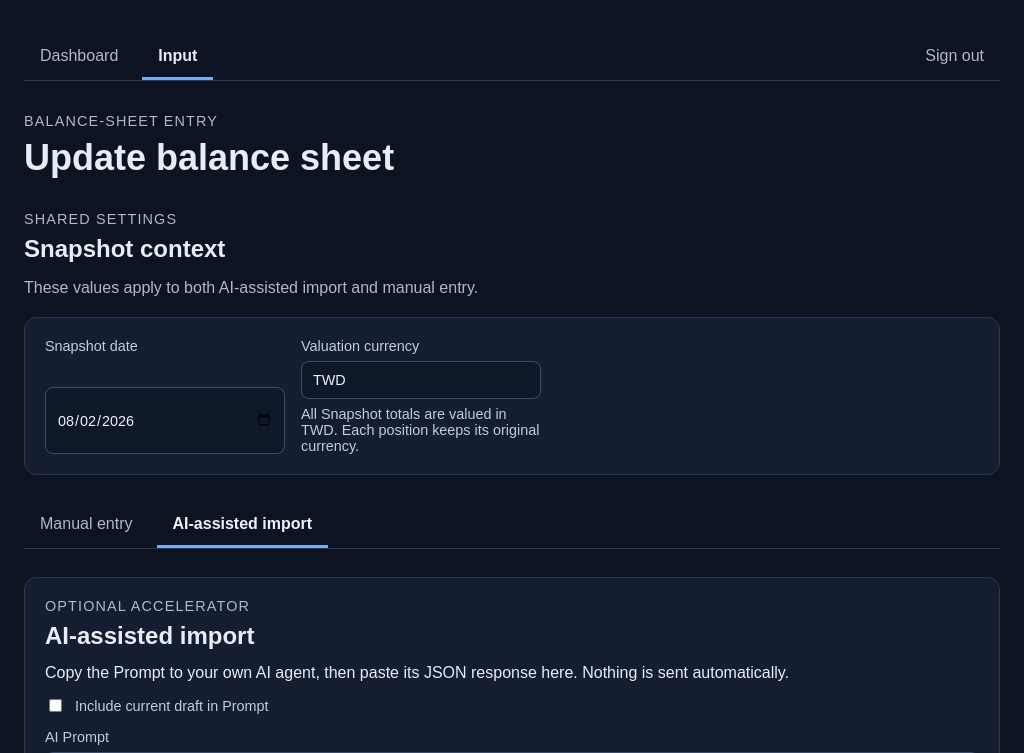
Test: Balance-sheet entry › hydrates the original amount from applied conversion
Click the tab "Manual entry" at (86, 526), box [24,503,148,548]
(page scrolled)
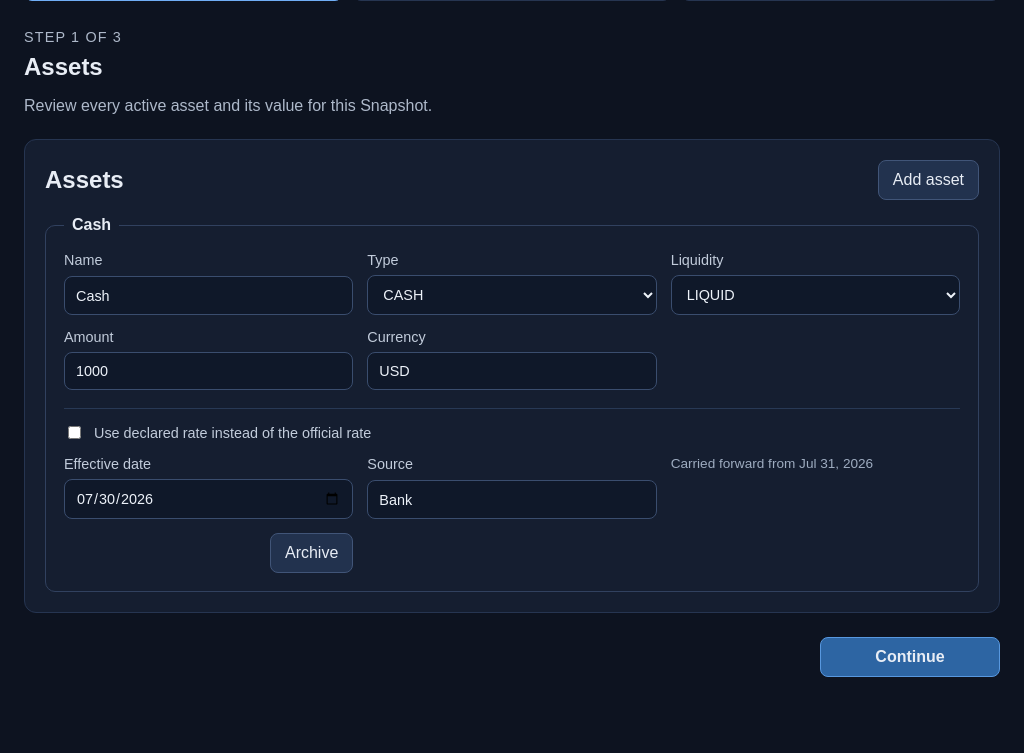
Check: the field named "Cash amount" holds "1000", box [64,352,353,390]
Check: the dropdown named "Cash currency" holds "USD", box [367,352,657,390]
